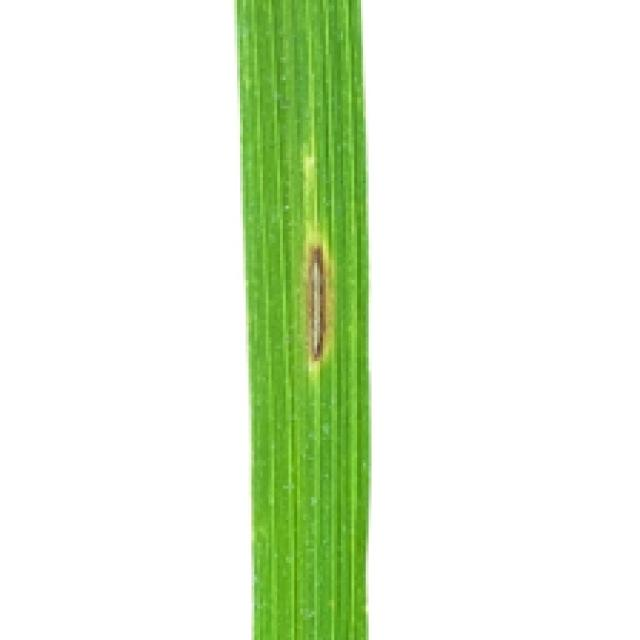Rice___Rice_Blast: (232, 0, 369, 637)
